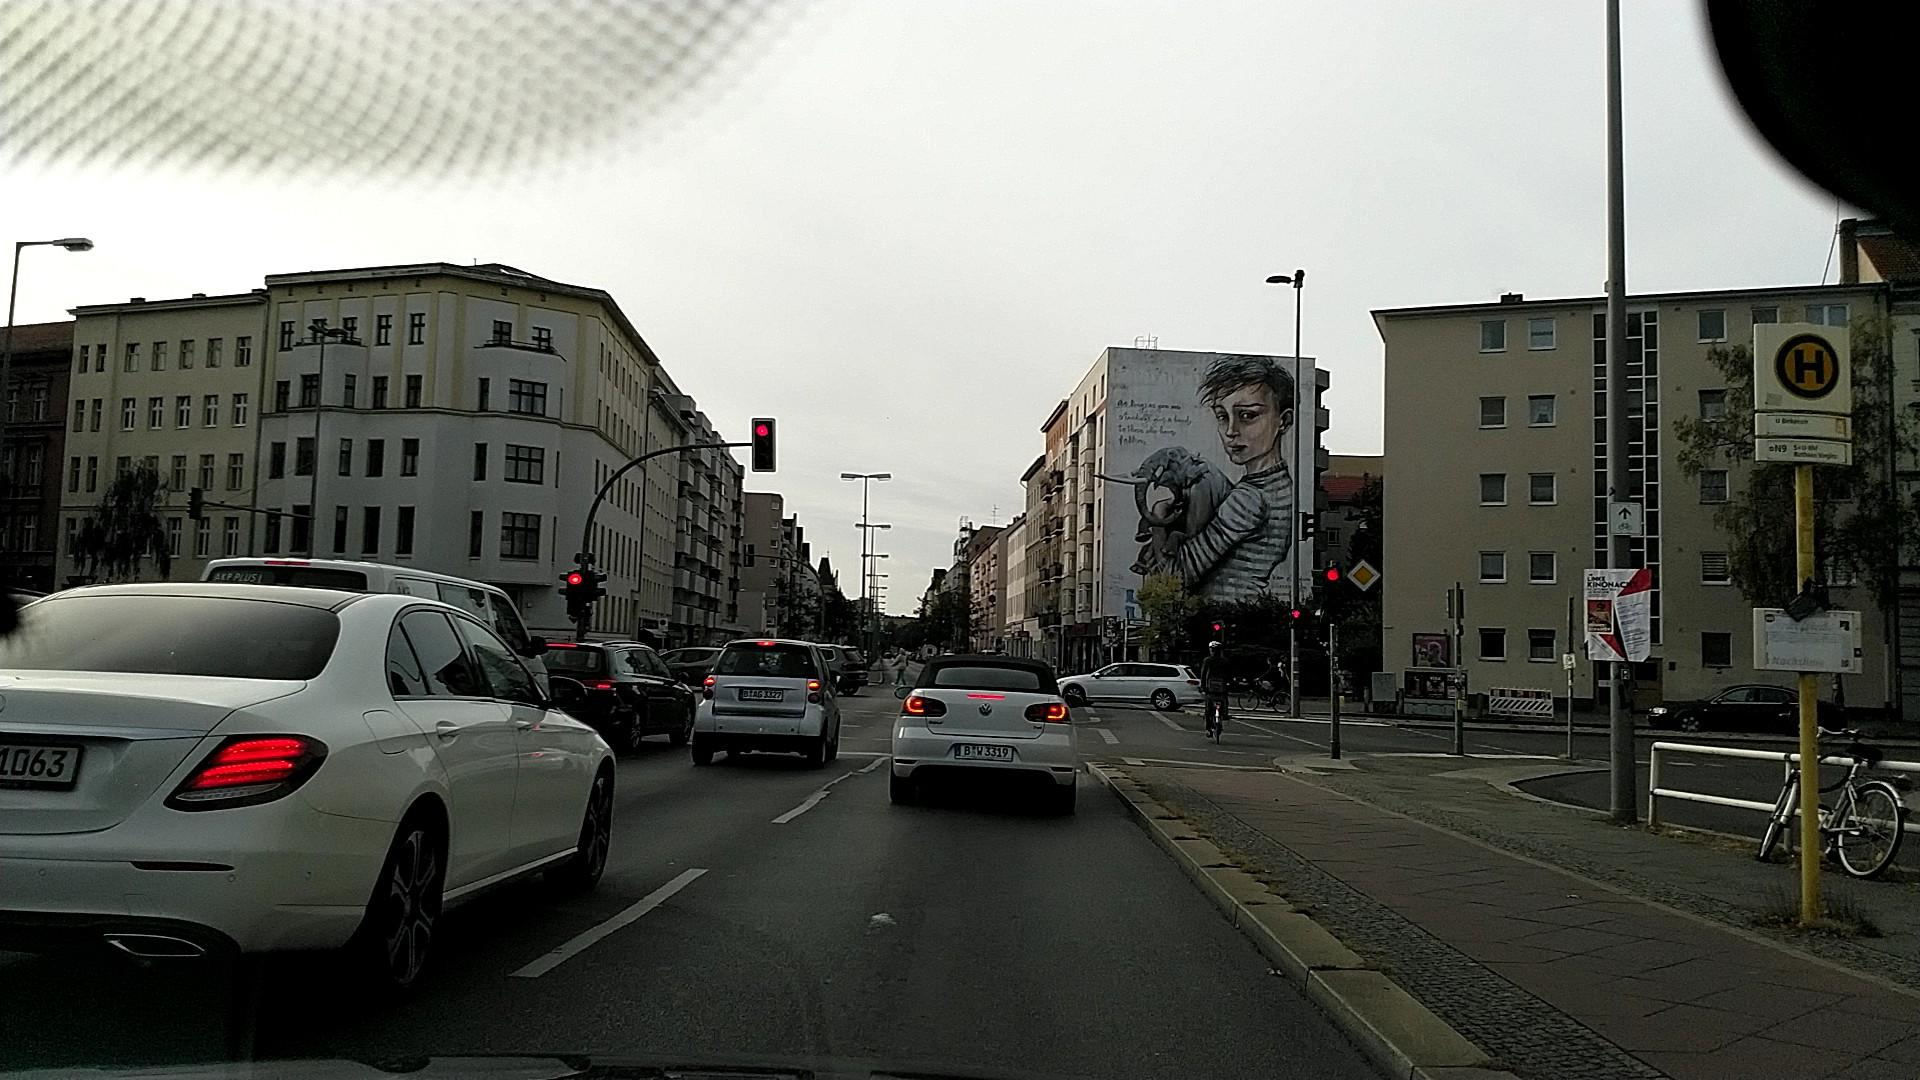Human face: (1208, 362, 1300, 466)
Vehicle registration plate: (4, 744, 70, 785), (954, 744, 1013, 761), (738, 685, 784, 702)
